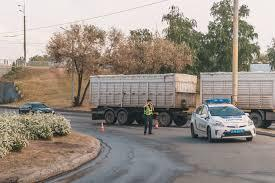car: (194, 100, 255, 147), (18, 102, 54, 121)
person: (142, 100, 156, 132)
